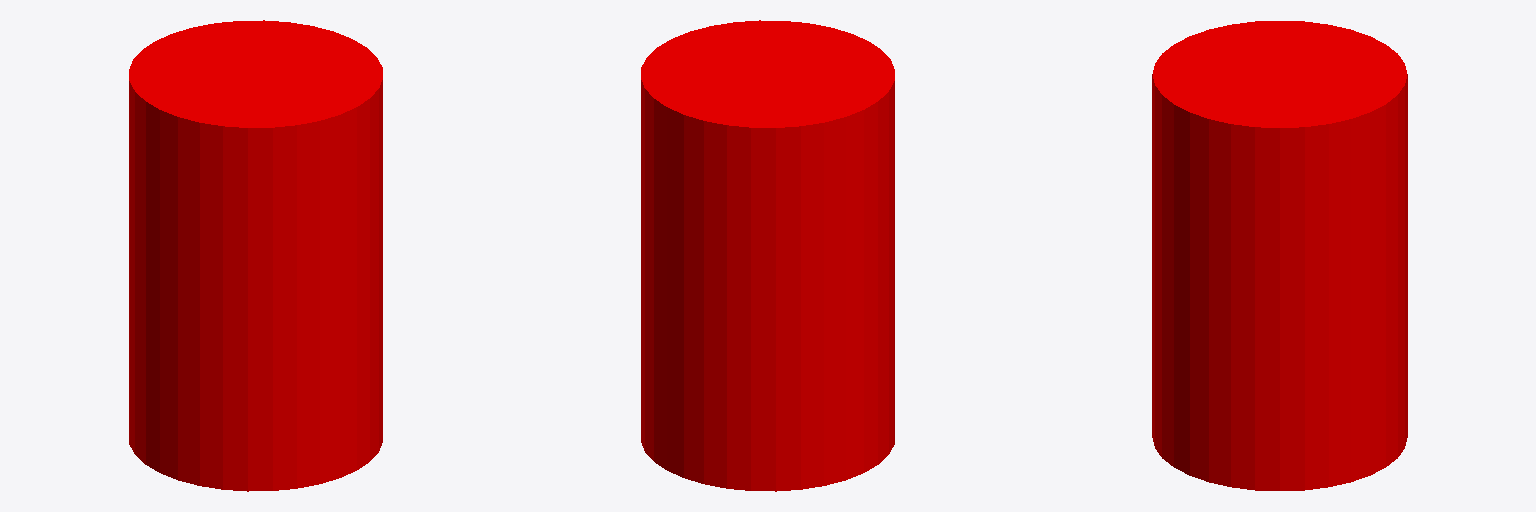
The robot description file, URDF, robot "can17":
<?xml version="1.0"?>
<robot name="can17">
	<link name="base">
	<inertial>
        	 <origin xyz="0 0 0" rpy="0 0 0"/>
        	 <mass value="0.05"/>
        	 <inertia ixx="0.000683333"  ixy="0"  ixz="0" iyy="0.000683333" iyz="0" izz="0.000683333" />
       </inertial>
	<visual>
		<origin xyz="0.0001 0.00008 -0.00255" rpy="0 0 0" />
		<geometry>
           <cylinder length="0.11" radius="0.035"/>
      		</geometry>
		<material>
			<color rgba="1 0 0 1" />
		</material>
		</visual>
  	 <collision>
		<origin xyz="0.0001 0.00008 -0.00255" rpy="0 0 0" />
            <geometry>
           <cylinder length="0.11" radius="0.035"/>
            </geometry>
	    <material>
			<color rgba="1 0 0 1" />
	    </material>
        </collision>
	</link>
</robot>

--- What the picture shows (computed from the rendered views, not written in the file) ---
3 views of the same robot in one strip: view 1: azimuth 30°, elevation 25°; view 2: azimuth 150°, elevation 25°; view 3: azimuth 270°, elevation 25° (orthographic).
Robot: can17 — 1 links, 0 joints (none); root link base; default pose: all joints at 0.
Links seen in each view (by area): view 1: base; view 2: base; view 3: base.
Boxes of the visible links, x1=… form: base: x1=129, y1=20, x2=382, y2=491; base: x1=641, y1=20, x2=894, y2=491; base: x1=1152, y1=21, x2=1407, y2=490.
Bounding box of the posed robot: 0.07 × 0.07 × 0.11 m (x, y, z).
Geometry: primitives only (box / cylinder / sphere), no mesh files.
